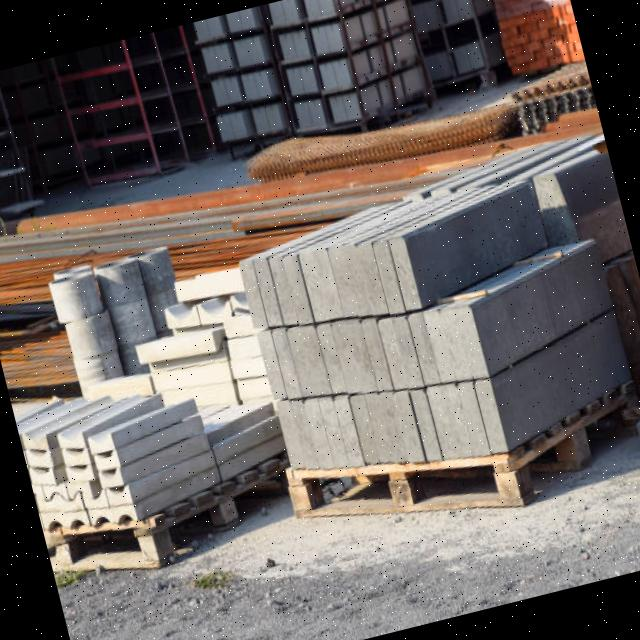Wooden-Pallets: (282, 376, 635, 523), (51, 462, 277, 573)
